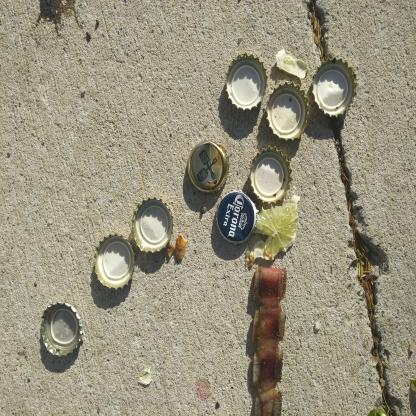trash: (310, 54, 360, 124), (264, 79, 313, 144), (246, 145, 295, 208), (92, 229, 139, 294), (222, 50, 269, 113), (183, 137, 232, 196), (38, 298, 84, 359), (130, 193, 173, 256), (214, 189, 260, 246)
